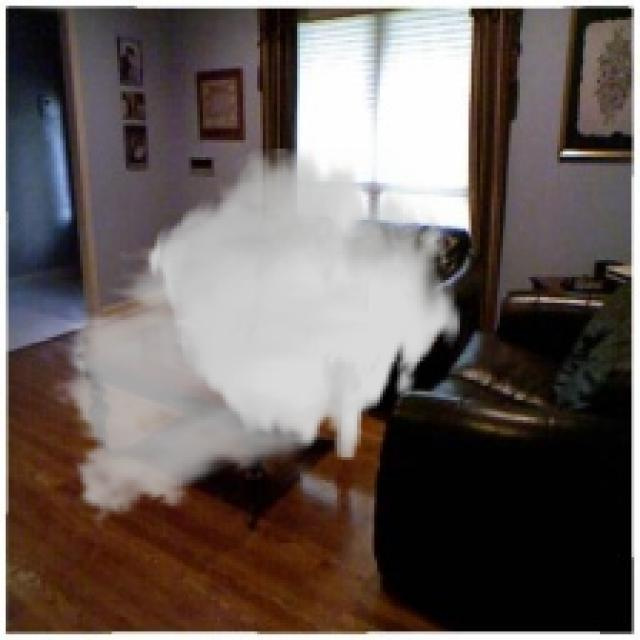Smoke: (51, 148, 463, 532)
